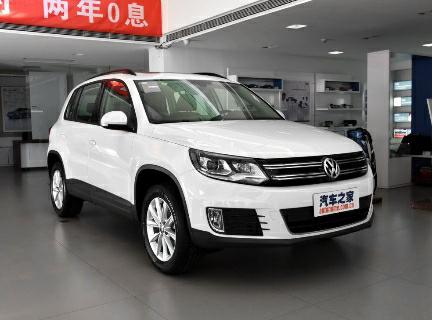大众-途观: (43, 67, 384, 278)
